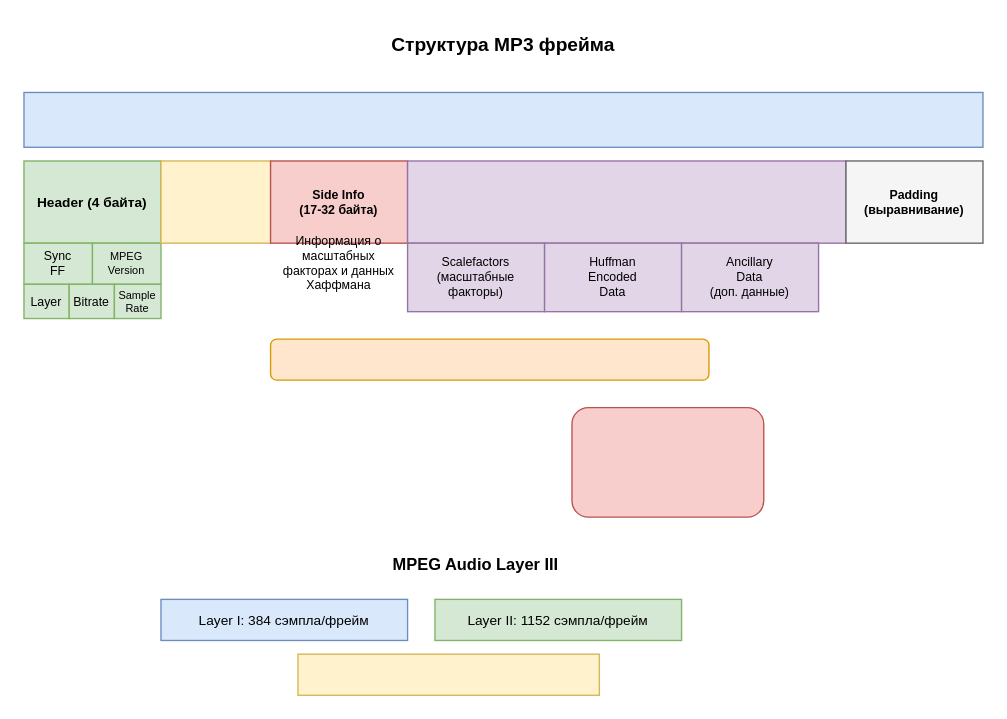
The diagram is 1007 pixels wide and 719 high, and some of its shapes have lost their labels. Here are the shapes that lost their labels. From the top down, the centre of each, then its label:
[503,119]: MP3 Frame (обычно 1152 сэмпла)
[215,201]: CRC (2 байта, опционально)
[626,201]: Main Data (аудиоданные)
[489,359]: Bit Reservoir: данные могут быть распределены между фреймами
[667,461]: Места для встраивания: • Scalefactors • Ancillary Data • Padding
[448,674]: Layer III: 1152 сэмпла/фрейм (MP3)
